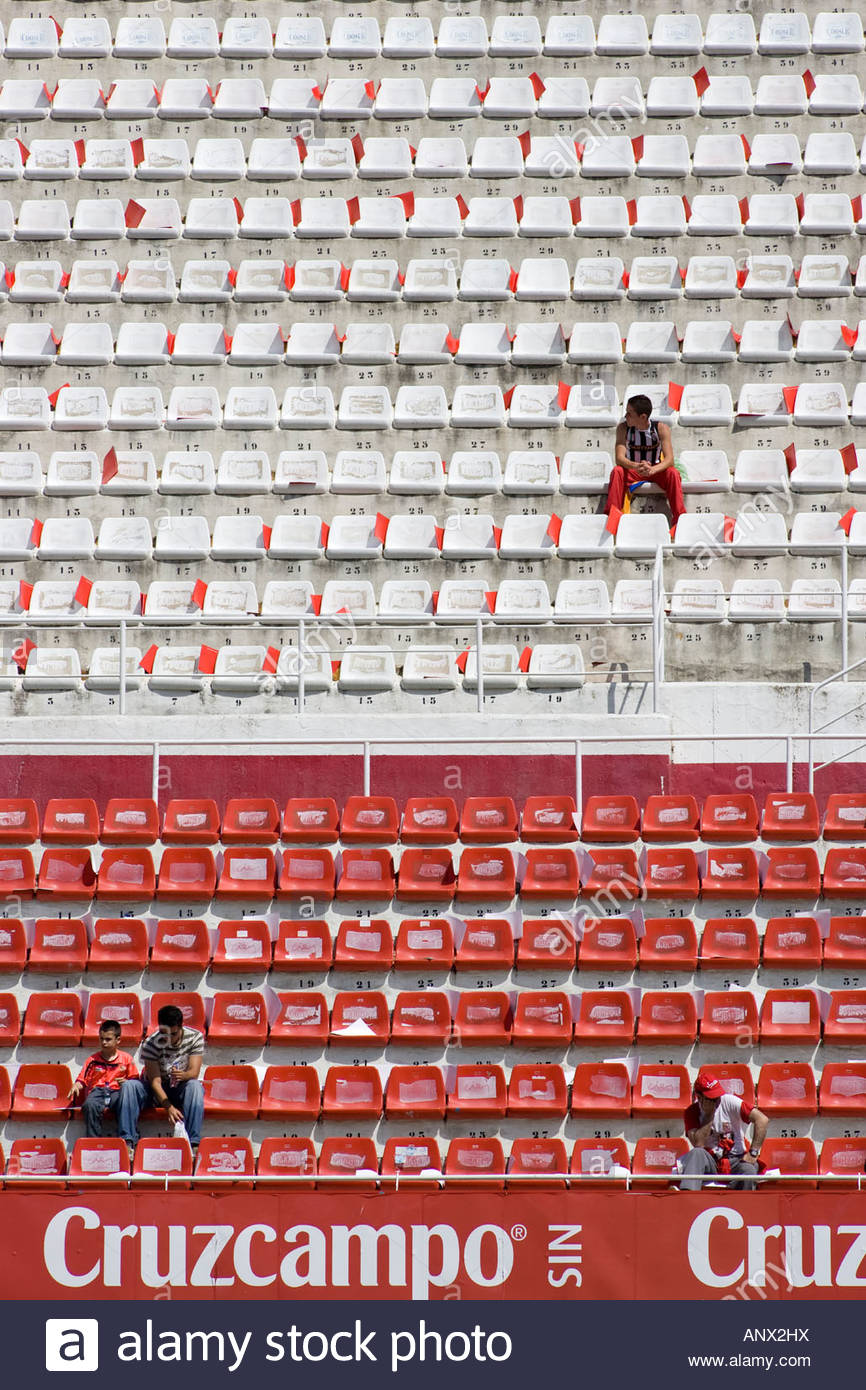Person: (125, 1004, 208, 1151), (676, 1070, 769, 1185), (606, 394, 684, 513), (68, 1017, 138, 1137)
